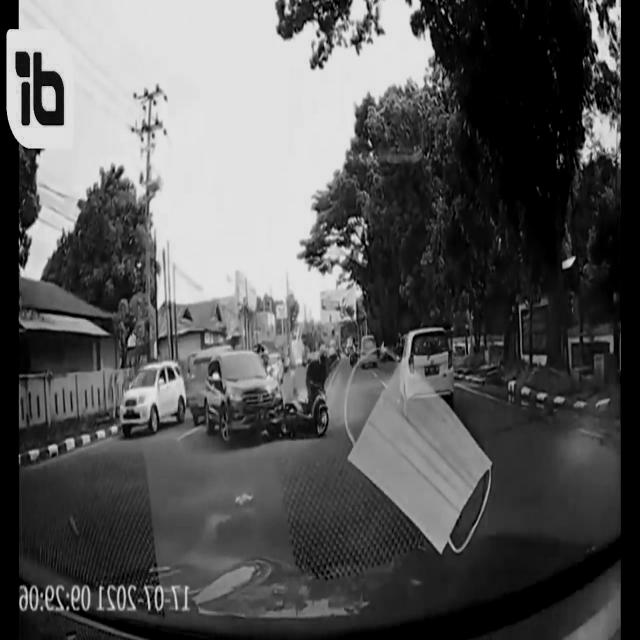accident: (206, 350, 330, 442)
